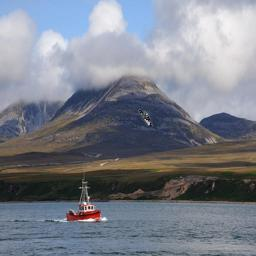Crow: (139, 110, 154, 127)
